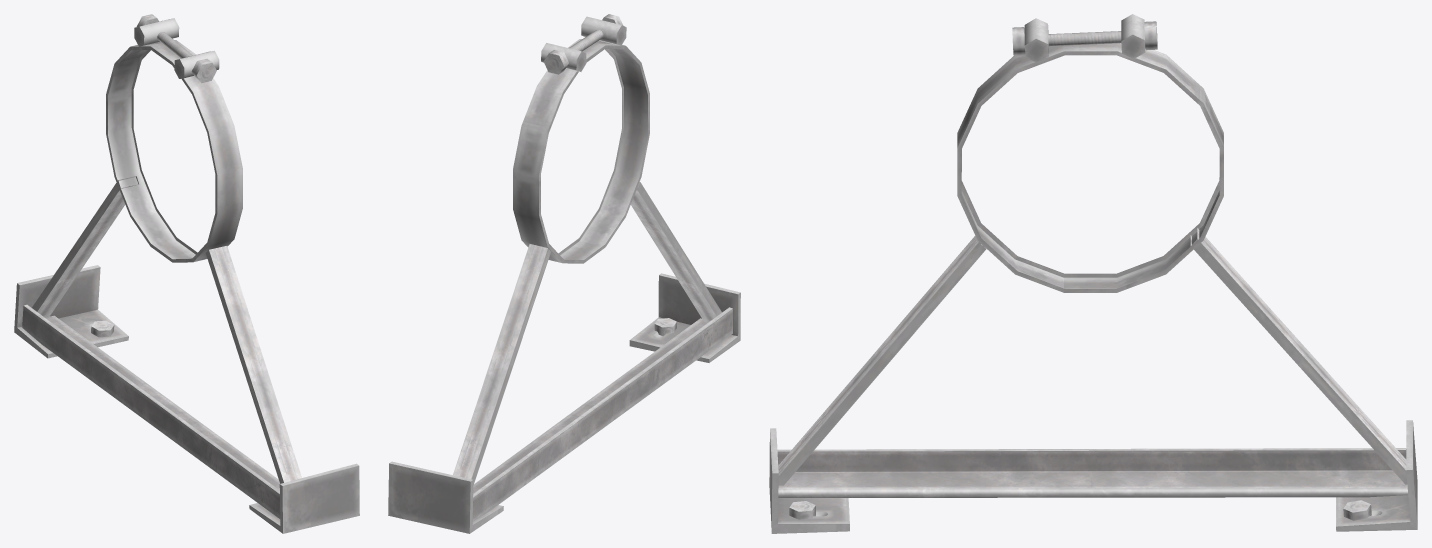
File: SM_Pipes_03n.glb
3 views of the same model, side by side, from view 1: azimuth 30°, elevation 25°; view 2: azimuth 150°, elevation 25°; view 3: azimuth 270°, elevation 25° (orthographic). The views are drawn at different scales.
Visible parts, largest first — view 1: SM_Pipes_03n; view 2: SM_Pipes_03n; view 3: SM_Pipes_03n.
Part boxes in pixels (box(x1,y1,x2,y2)): SM_Pipes_03n: box(14, 14, 359, 533); SM_Pipes_03n: box(388, 14, 740, 533); SM_Pipes_03n: box(769, 14, 1417, 533).
Size of the model in its own units: 0.0624 by 0.2857 by 0.3508.
1 material, 1 textured.
